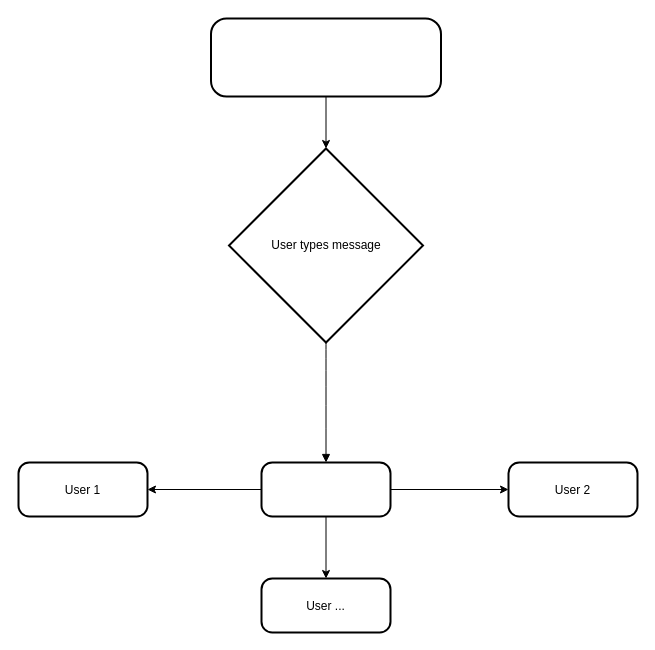
The diagram is 655 pixels wide and 650 high, and some of its shapes have lost their labels. The shapes that lost their labels are listed below. From the top down, each one's centre as x and y in pixels, then its label:
At (x=326, y=57): "Send partner".
At (x=325, y=489): "Send message".
